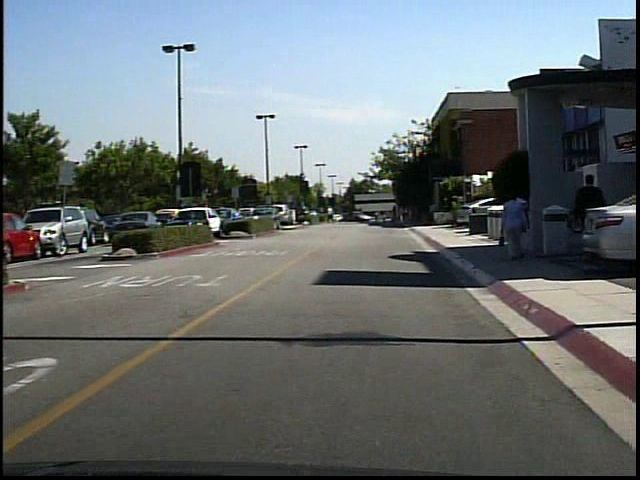person: (574, 171, 614, 266), (504, 189, 533, 266), (517, 189, 537, 263), (329, 203, 340, 227)
